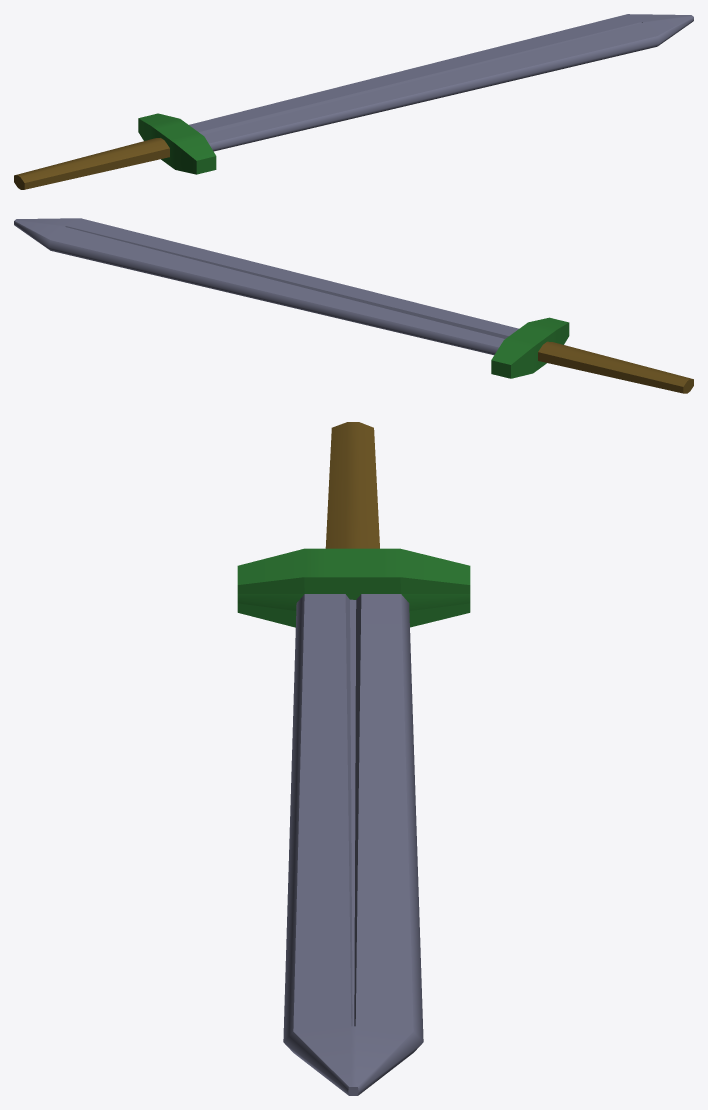
File: Sword.fbx
3 views of the same model, one above another, from view 1: azimuth 30°, elevation 25°; view 2: azimuth 150°, elevation 25°; view 3: azimuth 270°, elevation 25° (orthographic). The views are drawn at different scales.
Visible parts, largest first — view 1: polySurface153; view 2: polySurface153; view 3: polySurface153.
Boxes of the visible parts, box(x1,y1,x2,y2) form: polySurface153: box(14, 14, 693, 189); polySurface153: box(14, 218, 693, 393); polySurface153: box(237, 422, 470, 1095).
Size of the model in its own units: 2.99 by 0.1119 by 0.4484.
